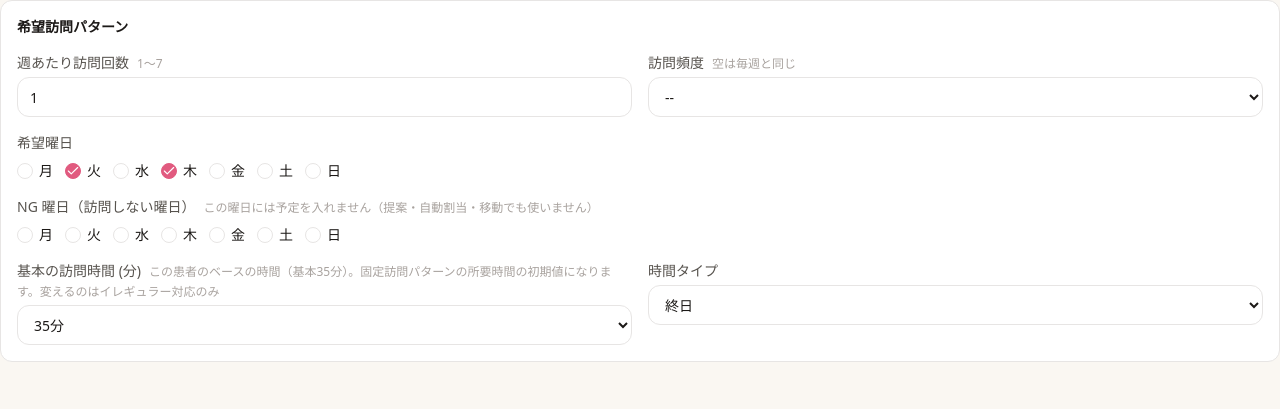
it: WeeklyPatternEditor — NG 曜日 › 希望曜日と重なったらやわらかく知らせる
This screenshot has width=1280, height=409.
Click the checkbox named "NG 曜日 木" at (169, 235), box x1=161 y1=227 x2=177 y2=243
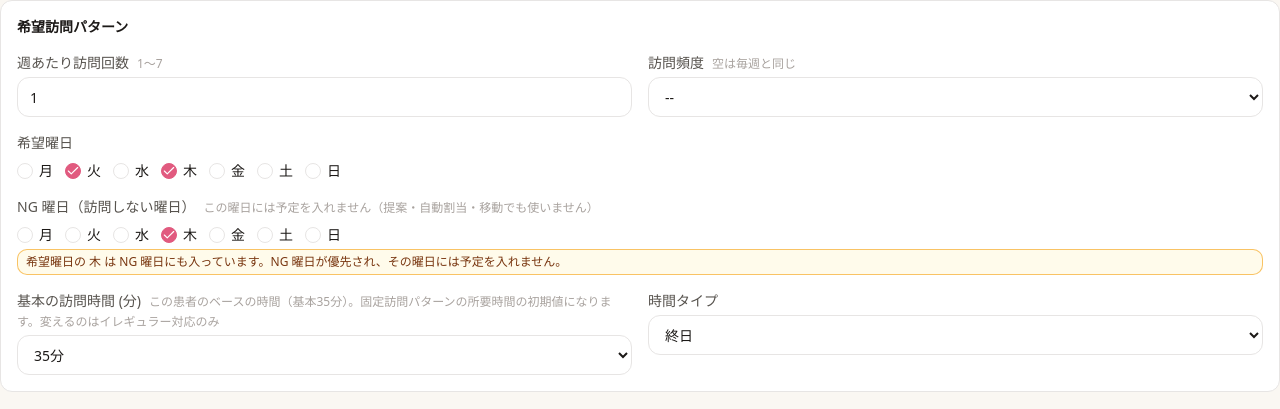
Check: the text with test id "ng-weekday-conflict" reads "希望曜日の 木 は NG 曜日にも入っています。NG 曜日が優先され、その曜日には予定を入れません。", box x1=26 y1=253 x2=567 y2=270
